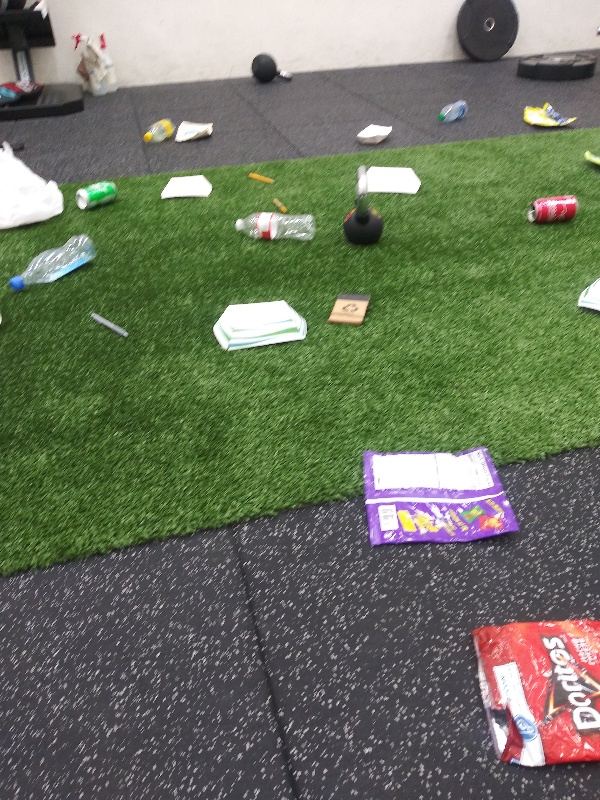bag: (462, 615, 600, 771), (357, 441, 522, 551), (518, 101, 581, 129), (172, 117, 216, 145)
bottle: (5, 232, 101, 296), (229, 209, 318, 245), (138, 111, 176, 146), (431, 97, 473, 126)
can: (522, 192, 583, 229), (73, 179, 122, 217)
plate: (210, 298, 312, 356), (367, 158, 424, 197), (158, 173, 216, 205), (572, 270, 600, 319), (351, 120, 395, 146)
